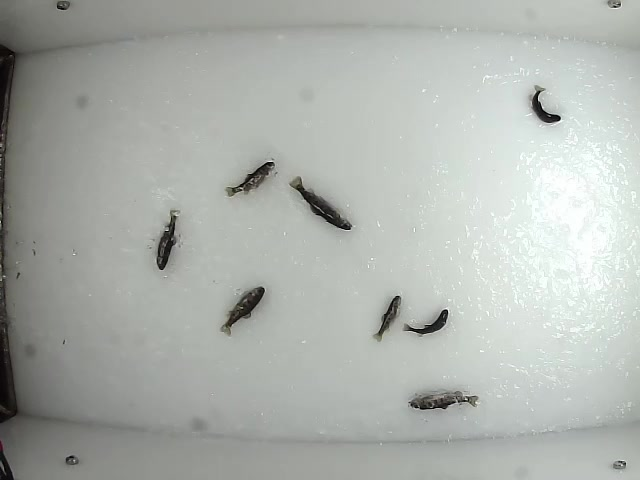fish: (287, 174, 356, 231), (218, 283, 265, 338), (224, 159, 276, 199), (154, 209, 183, 274), (406, 388, 480, 411), (371, 296, 402, 345), (527, 83, 563, 125), (399, 308, 450, 337)
